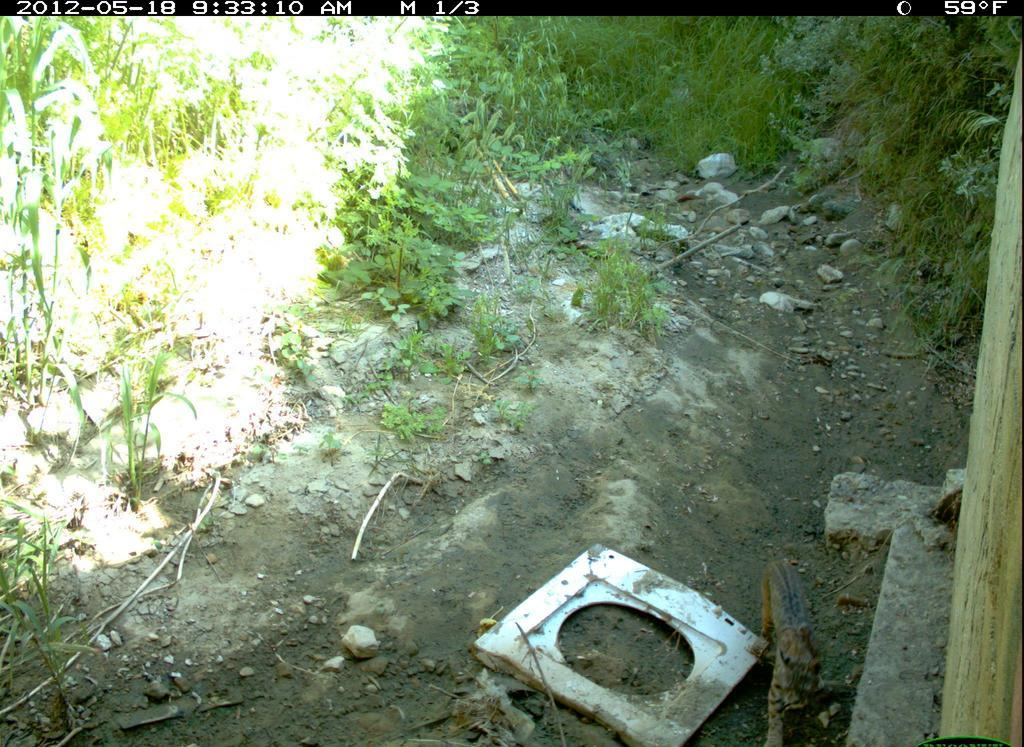bobcat: (748, 538, 838, 747)
